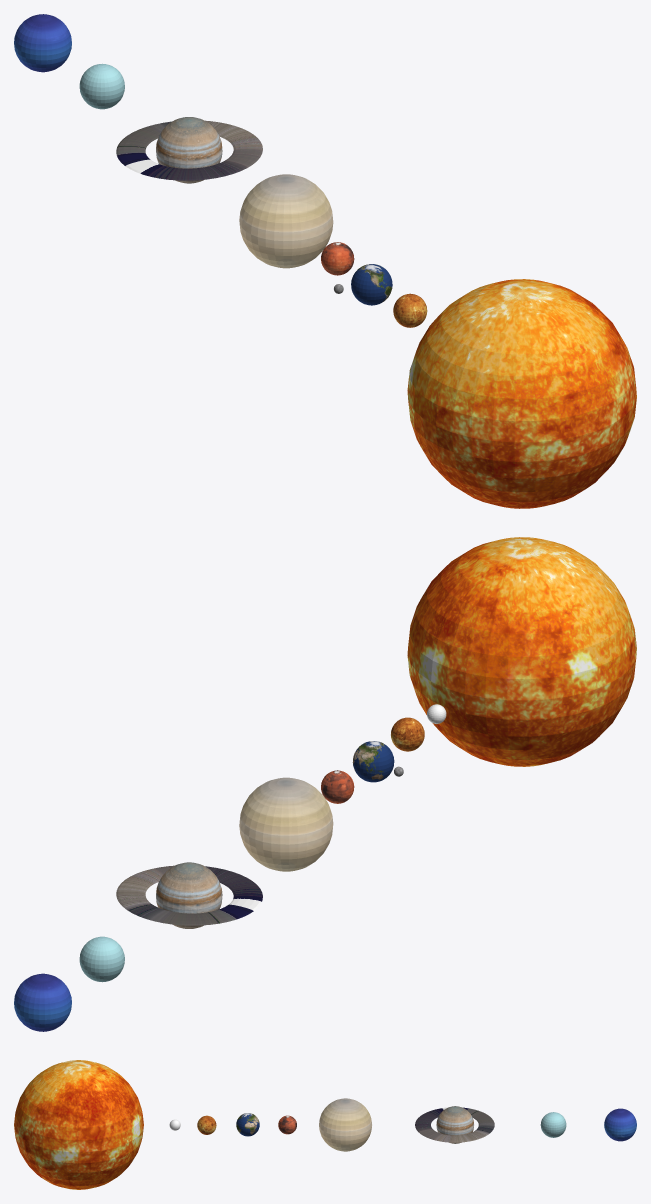
File: sistemaSolarEscala.glb
3 renders of one model, top to bottom at view 1: azimuth 30°, elevation 25°; view 2: azimuth 150°, elevation 25°; view 3: azimuth 270°, elevation 25°, orthographic. The views are drawn at different scales.
Visible parts, largest first — view 1: Sphere, Sphere.006, Torus, Sphere.007, Sphere.009, Sphere.008, Sphere.003, Sphere.002, Sphere.005; view 2: Sphere, Sphere.006, Torus, Sphere.007, Sphere.009, Sphere.008, Sphere.003, Sphere.002, Sphere.005; view 3: Sphere, Sphere.006, Torus, Sphere.007, Sphere.009, Sphere.008, Sphere.003, Sphere.002, Sphere.005.
Part boxes in pixels (left/top/right/bottom): Sphere: left=407, top=279, right=636, bottom=508; Sphere.006: left=239, top=174, right=333, bottom=268; Torus: left=116, top=120, right=262, bottom=180; Sphere.007: left=156, top=117, right=222, bottom=183; Sphere.009: left=14, top=14, right=71, bottom=72; Sphere.008: left=79, top=63, right=124, bottom=109; Sphere.003: left=351, top=264, right=392, bottom=305; Sphere.002: left=393, top=293, right=427, bottom=327; Sphere.005: left=321, top=242, right=354, bottom=275; Sphere: left=407, top=537, right=636, bottom=766; Sphere.006: left=239, top=777, right=333, bottom=871; Torus: left=116, top=865, right=262, bottom=925; Sphere.007: left=156, top=862, right=222, bottom=928; Sphere.009: left=14, top=973, right=71, bottom=1031; Sphere.008: left=79, top=936, right=124, bottom=982; Sphere.003: left=352, top=741, right=394, bottom=782; Sphere.002: left=391, top=717, right=424, bottom=751; Sphere.005: left=321, top=770, right=354, bottom=803; Sphere: left=14, top=1060, right=143, bottom=1189; Sphere.006: left=319, top=1098, right=371, bottom=1151; Torus: left=415, top=1107, right=494, bottom=1142; Sphere.007: left=436, top=1106, right=473, bottom=1143; Sphere.009: left=604, top=1108, right=636, bottom=1141; Sphere.008: left=540, top=1112, right=566, bottom=1137; Sphere.003: left=236, top=1113, right=259, bottom=1136; Sphere.002: left=197, top=1115, right=216, bottom=1134; Sphere.005: left=278, top=1115, right=296, bottom=1134.
Size of the model in its own units: 200 by 200 by 958.
Materials: 11 (10 with a texture image).
